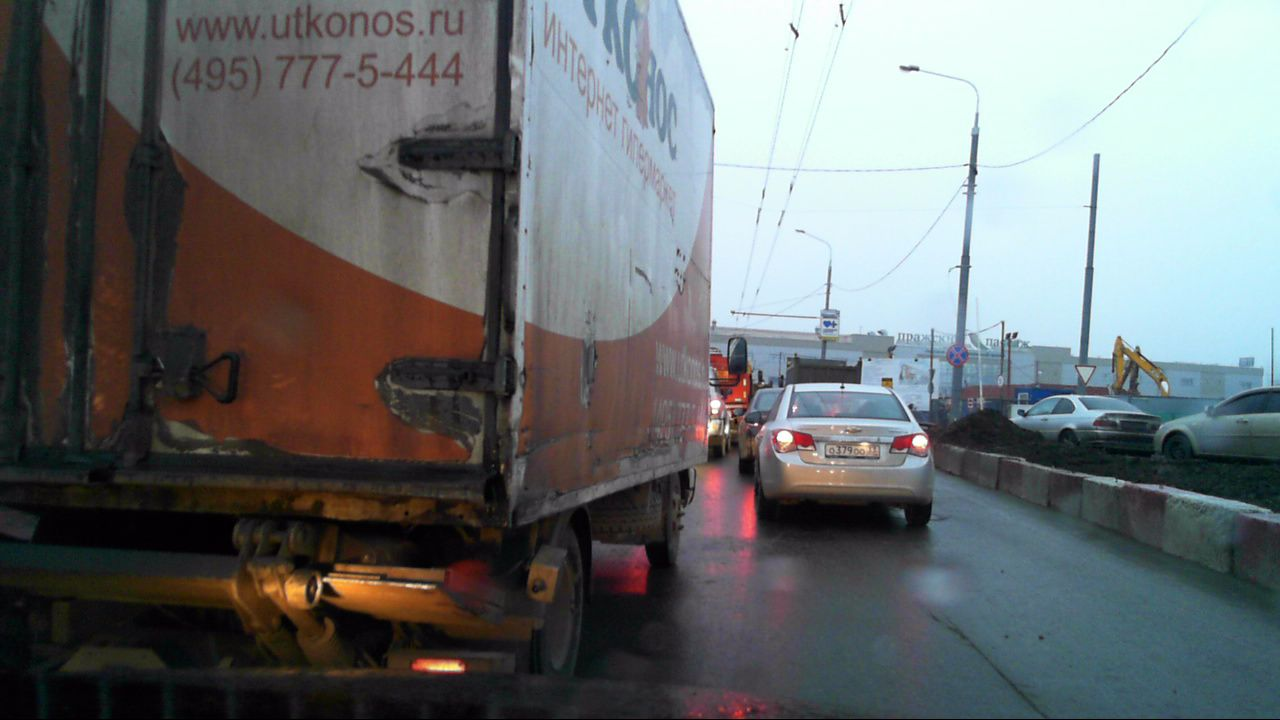No Parking: (946, 344, 969, 367)
